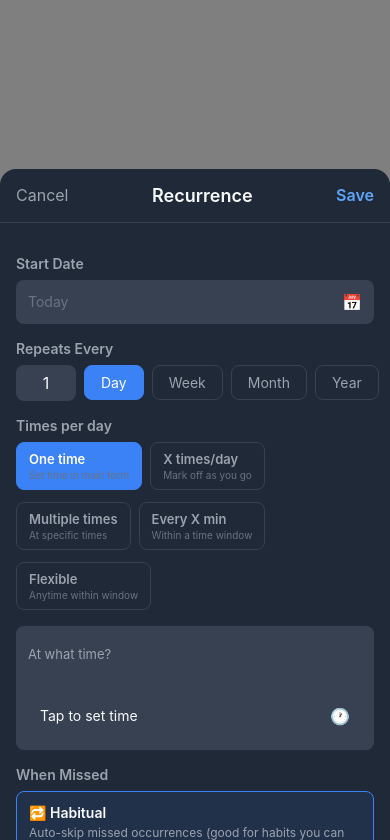
Scenario: RecurrencePicker › preview › updates summary when frequency changes
The image size is (390, 840).
Click the radio button labelled "Week" at (187, 383), box left=152, top=365, right=223, bottom=400
(page scrolled)
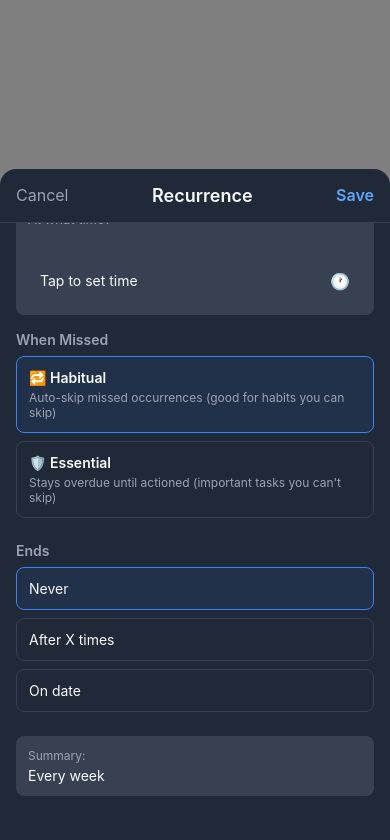
Check: the text "Every week" is shown, box left=28, top=767, right=105, bottom=784
